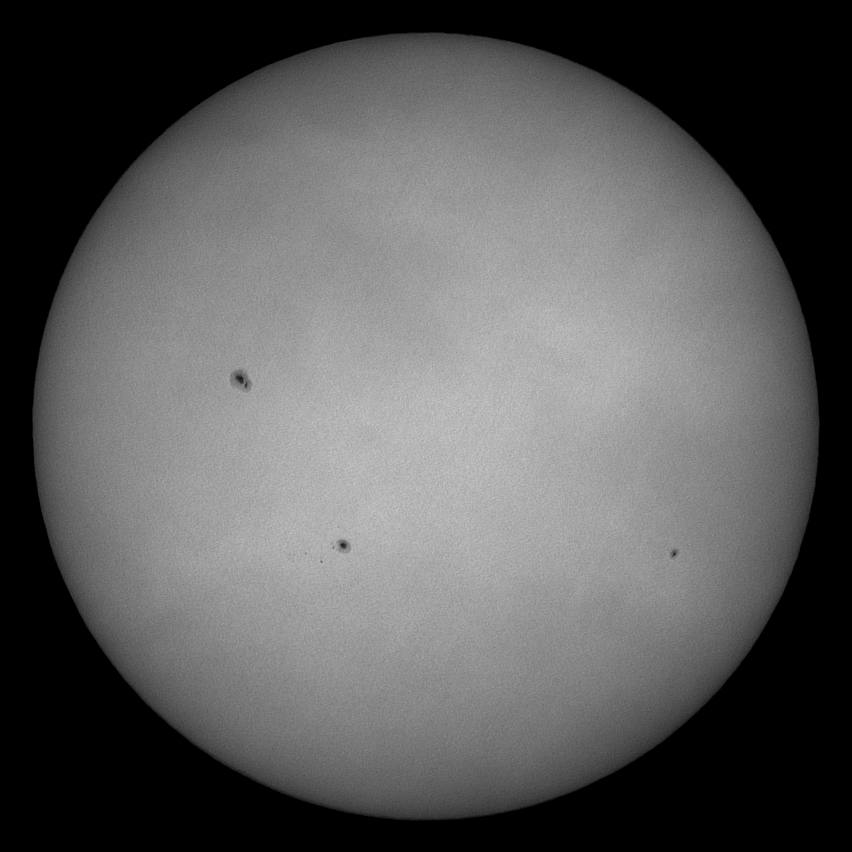sunspot: (228, 367, 255, 393), (332, 535, 352, 555), (667, 546, 683, 562)
